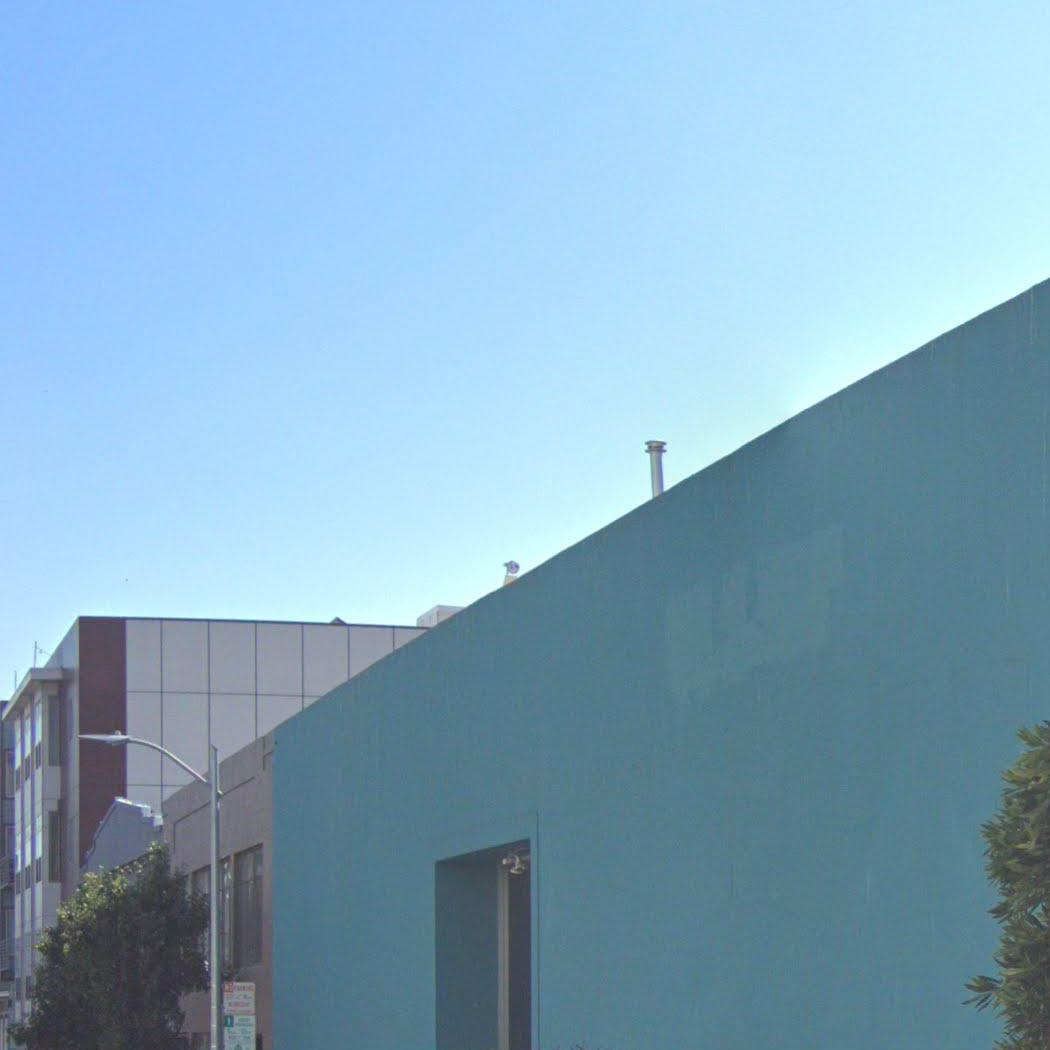1 Hour Parking: (221, 1016, 258, 1050)
No Parking: (222, 980, 257, 1016)
